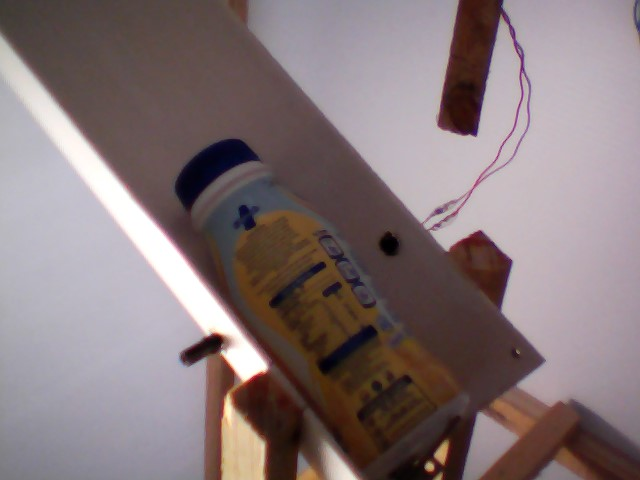plastico: (170, 137, 474, 478)
